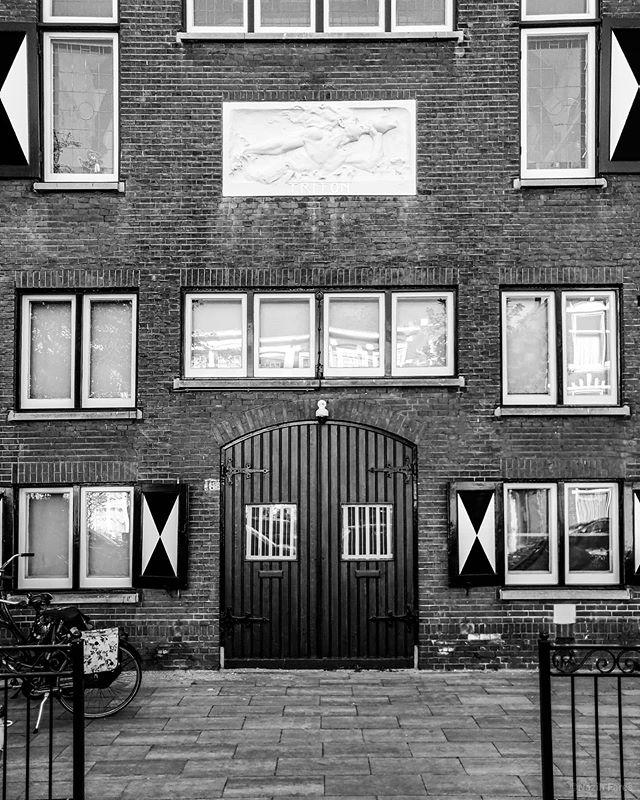building: (1, 1, 638, 663)
door: (223, 416, 405, 691)
window: (176, 284, 449, 378), (494, 285, 620, 416), (11, 286, 137, 417), (39, 26, 123, 188), (510, 27, 594, 189), (15, 482, 130, 585), (508, 485, 623, 588)
